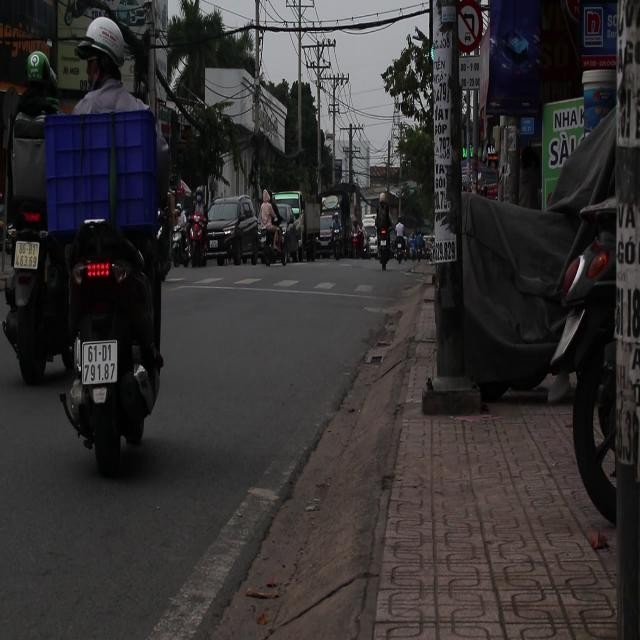car: (204, 197, 260, 264), (272, 192, 306, 255)
motorbike: (60, 215, 166, 466), (3, 223, 76, 383), (256, 214, 286, 270), (182, 208, 209, 268), (171, 204, 194, 268)
